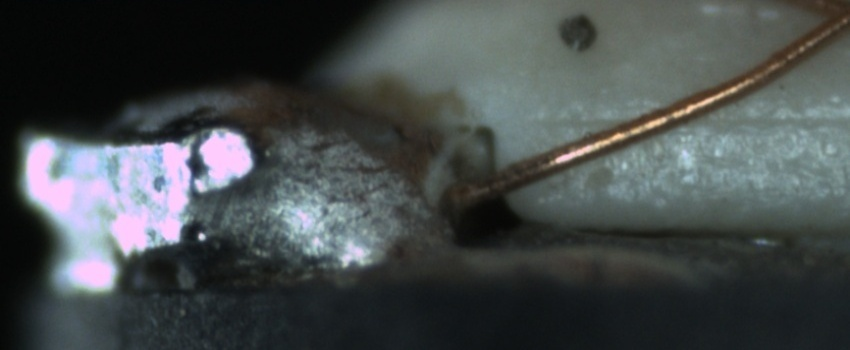CL: (807, 1, 849, 42)
DL: (542, 88, 849, 151)
